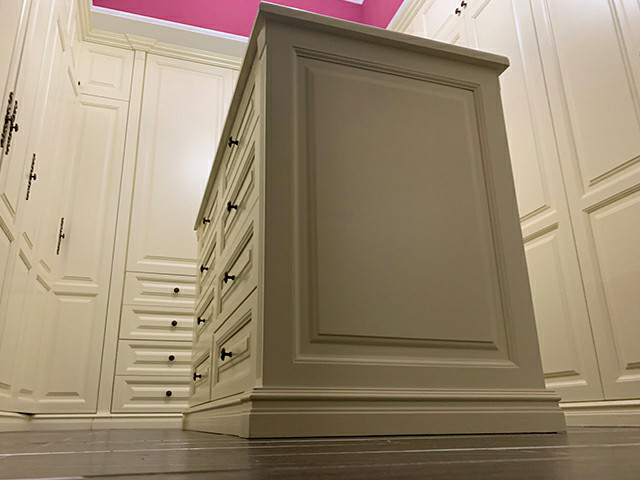cabinet: (1, 1, 640, 424), (183, 1, 566, 439)
